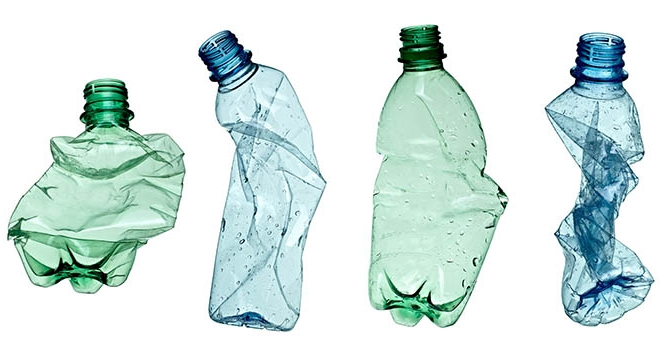plastic water bottle: (363, 22, 512, 331), (192, 22, 335, 340), (7, 72, 188, 301), (539, 26, 657, 331)
